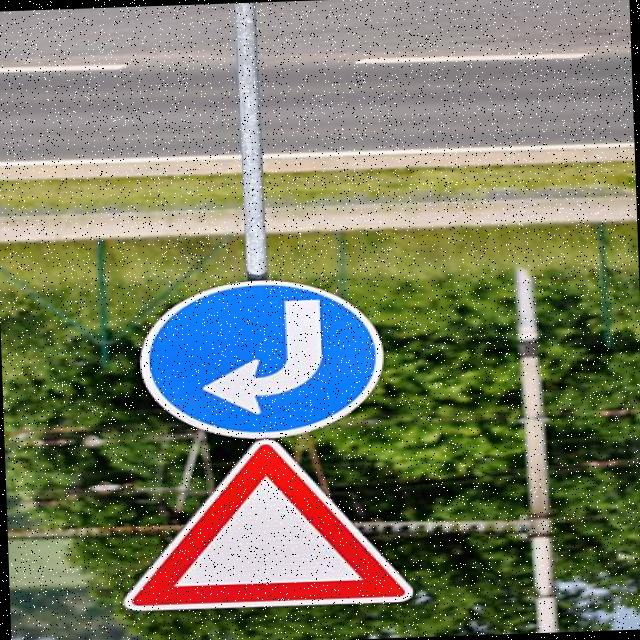give_way: (96, 433, 417, 618)
